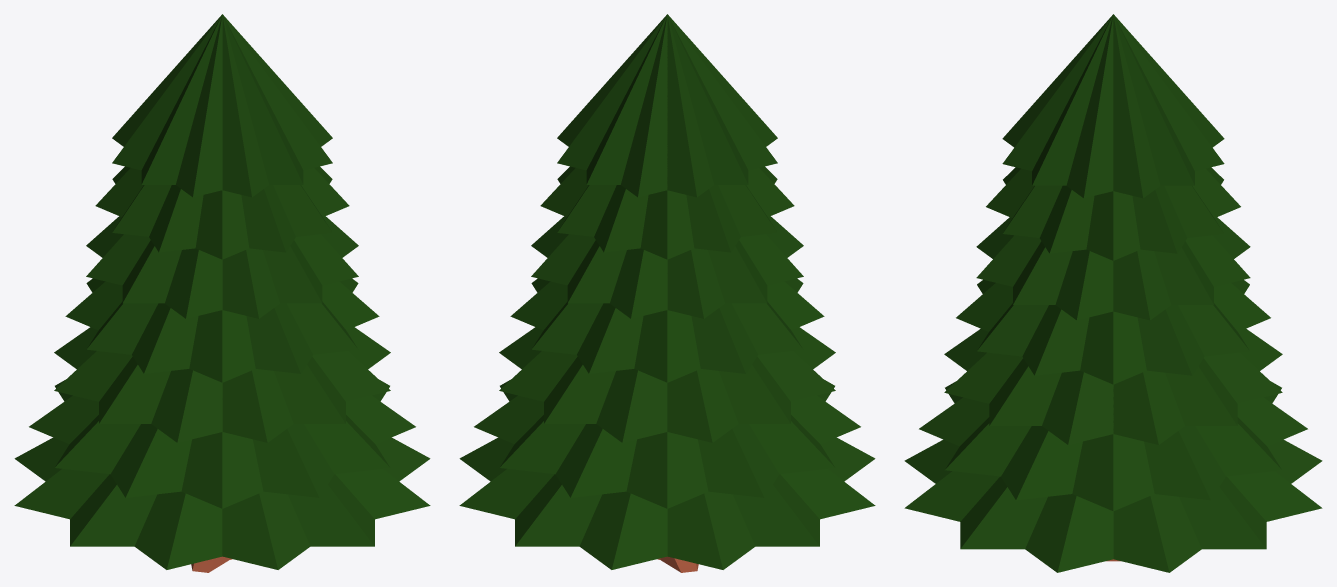
The model's file is Tannenbaum2.fbx.
3 renders of one model, left to right at view 1: azimuth 30°, elevation 25°; view 2: azimuth 150°, elevation 25°; view 3: azimuth 270°, elevation 25°, orthographic.
Visible parts, largest first — view 1: mergedBlocks; view 2: mergedBlocks; view 3: mergedBlocks.
Boxes of the visible parts, x1,y1,x2,y2 form: mergedBlocks: (14, 14, 430, 572); mergedBlocks: (459, 14, 875, 572); mergedBlocks: (904, 14, 1322, 572).
Bounding box in the file's own units: 137 × 190 × 137.
